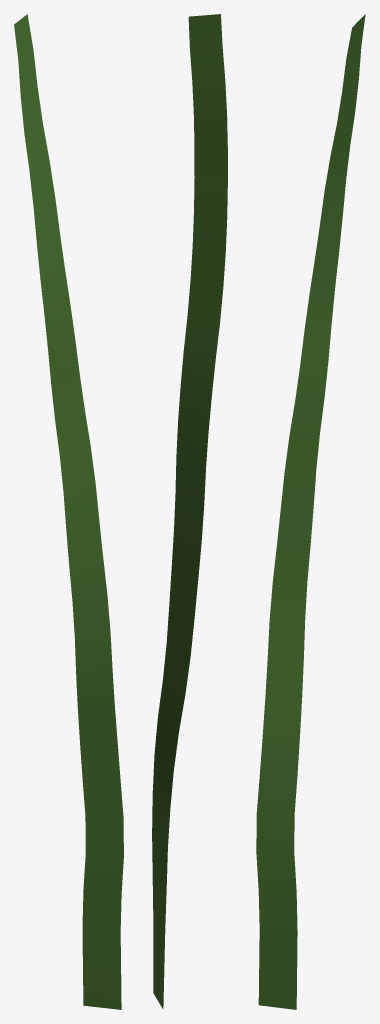
The model's file is plant_swamp_kelp_giant_A_solo_A.fbx.
The picture shows the model from 3 angles, left to right: view 1: azimuth 90°, elevation 25°; view 2: azimuth 210°, elevation 25°; view 3: azimuth 270°, elevation 25°; orthographic projection. The views are drawn at different scales.
Visible parts, largest first — view 1: plant_swamp_kelp_giant_A_solo_A; view 2: plant_swamp_kelp_giant_A_solo_A; view 3: plant_swamp_kelp_giant_A_solo_A.
Boxes of the visible parts, x1=… form: plant_swamp_kelp_giant_A_solo_A: x1=14, y1=14, x2=123, y2=1009; plant_swamp_kelp_giant_A_solo_A: x1=152, y1=14, x2=227, y2=1009; plant_swamp_kelp_giant_A_solo_A: x1=256, y1=14, x2=365, y2=1009.
Size of the model in its own units: 28.53 by 633 by 63.57.
